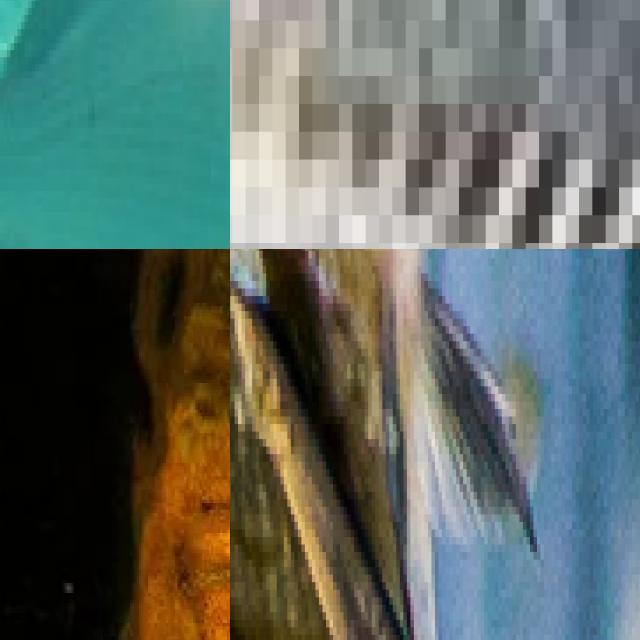fish: (230, 249, 551, 640), (230, 0, 640, 249), (0, 249, 230, 640), (0, 0, 230, 249)
